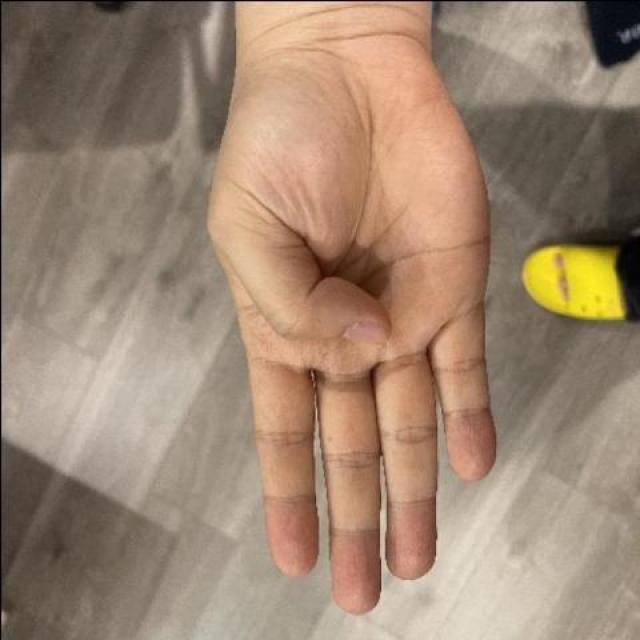Open Hand: (200, 0, 503, 613)
